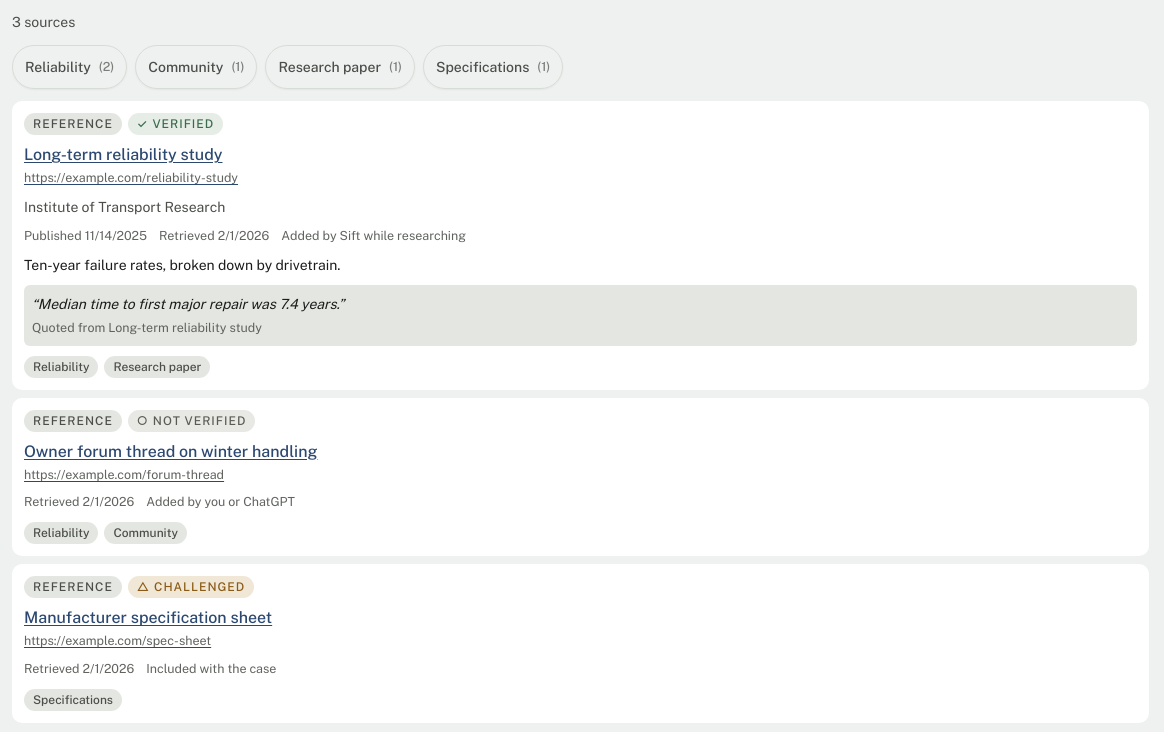
ReferenceLibrary: tag facets and filtering › narrows further when a second tag is selected: an entry must carry every selected tag
Click the button with test id "reference-library-tag-Reliability": [70, 67] box [12, 45, 127, 89]
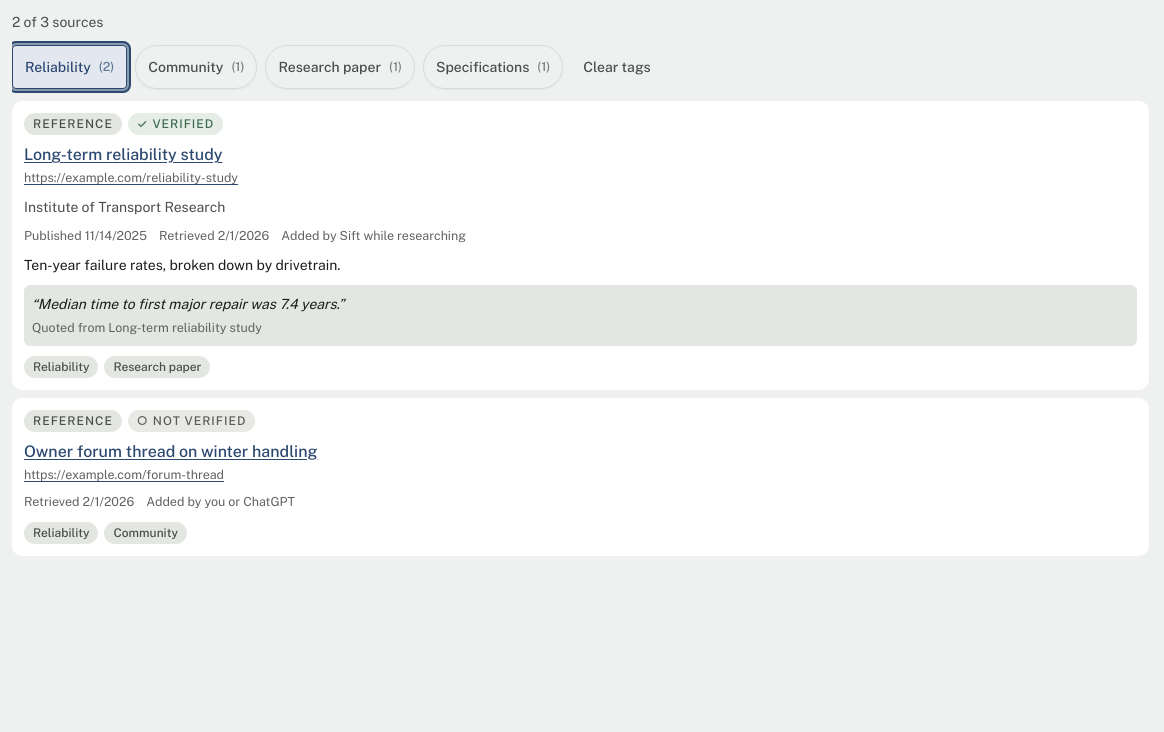
Expected: the list item with test id "reference-library-entry-src-1" is shown, [12, 101, 1149, 390]
Expected: the list item with test id "reference-library-entry-src-2" is shown, [12, 398, 1149, 556]
Click the button with test id "reference-library-tag-Community": [196, 67] box [135, 45, 257, 89]
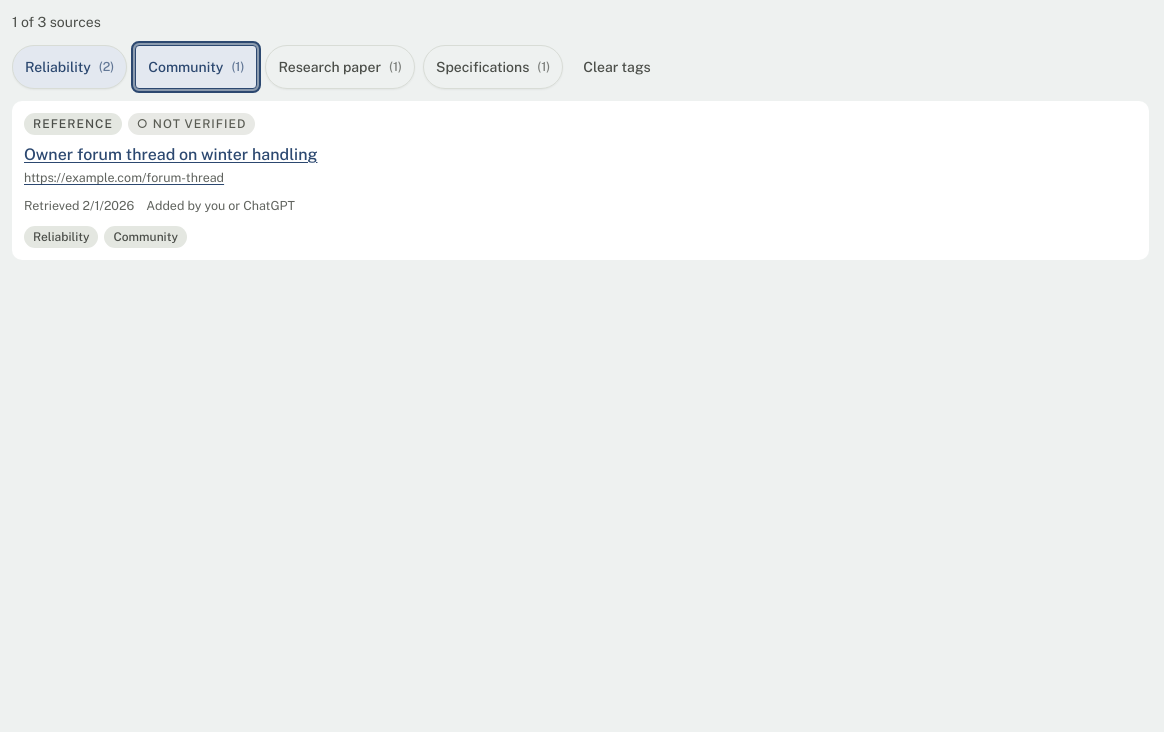
Expected: the list item with test id "reference-library-entry-src-2" is shown, [12, 101, 1149, 260]
Now the list item with test id "reference-library-entry-src-1" is gone
